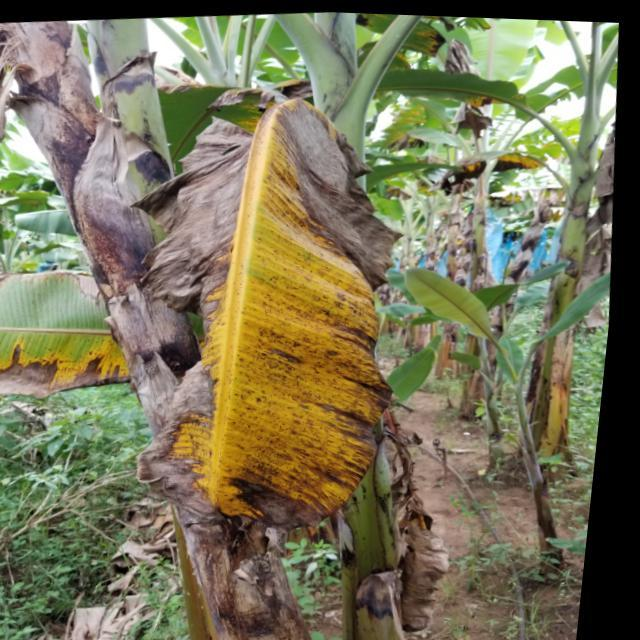Early_rust: (183, 76, 417, 531), (0, 245, 174, 413), (426, 128, 569, 202), (370, 0, 457, 100), (443, 63, 553, 134)
